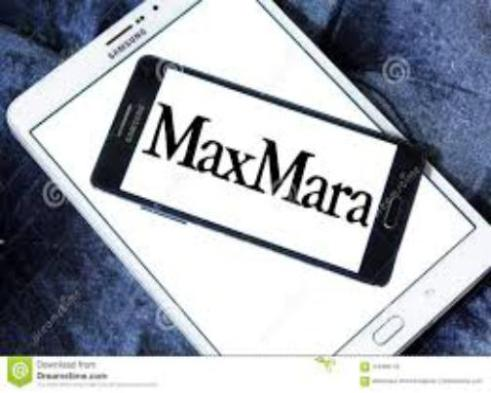MAX-MARA: (138, 102, 373, 231)
